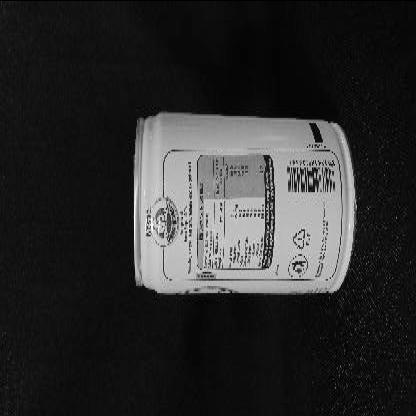alumunium_can: (133, 110, 357, 294)
